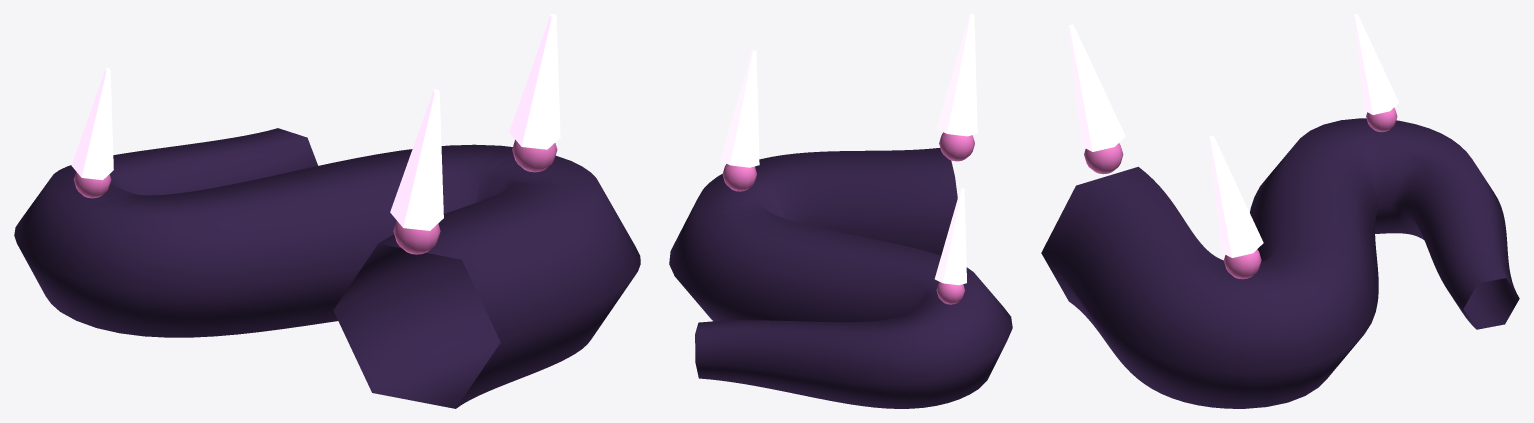
Rendered from SM_Keeper_Apep_Body_F24.fbx.
3 renders of one model, left to right at view 1: azimuth 30°, elevation 25°; view 2: azimuth 150°, elevation 25°; view 3: azimuth 270°, elevation 25°, orthographic. The views are drawn at different scales.
Parts seen in each view (by area): view 1: SM_Keeper_Apep_Body_F24; view 2: SM_Keeper_Apep_Body_F24; view 3: SM_Keeper_Apep_Body_F24.
Boxes of the visible parts, x1,y1,x2,y2 form: SM_Keeper_Apep_Body_F24: [14, 14, 640, 408]; SM_Keeper_Apep_Body_F24: [669, 14, 1012, 408]; SM_Keeper_Apep_Body_F24: [1041, 14, 1519, 408].
Size of the model in its own units: 6.53 by 4.36 by 6.54.
